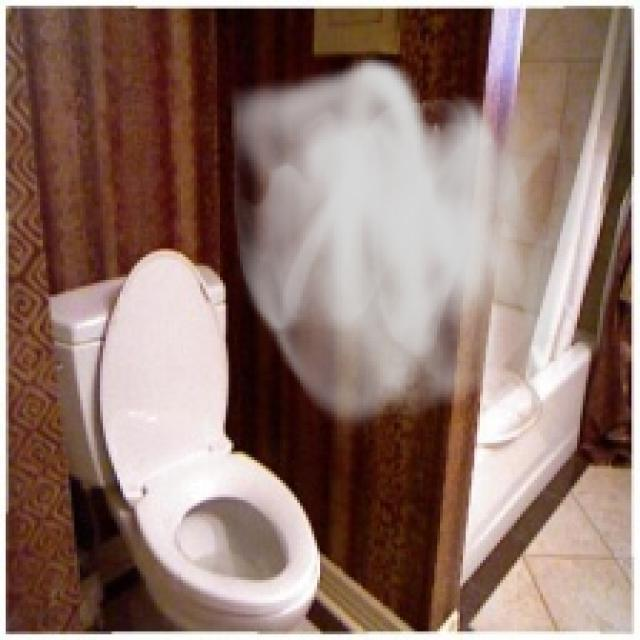Smoke: (220, 54, 597, 437)
